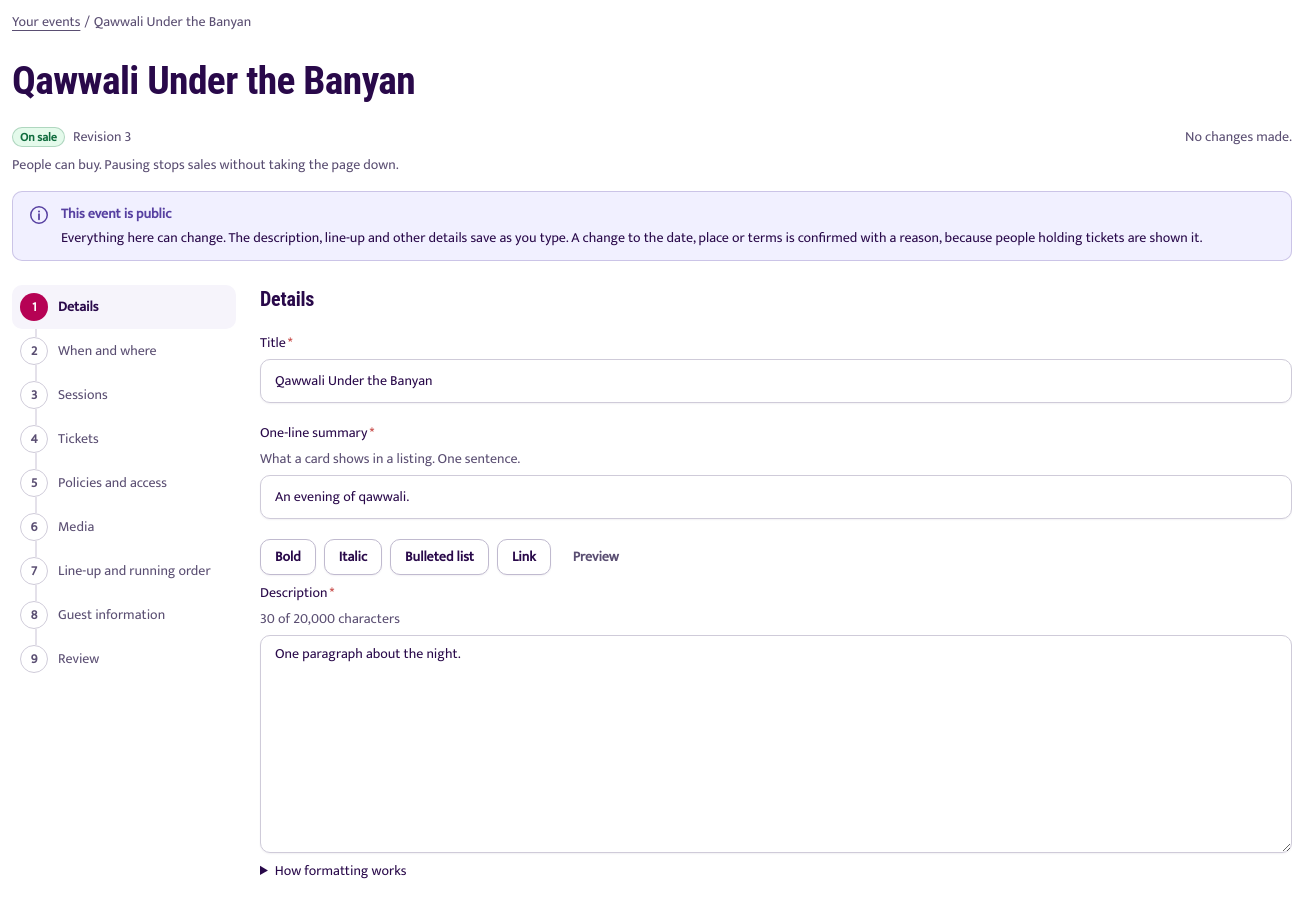
Test: the controls the organisation’s membership allows › offers a member who may delete the danger zone, and lists the changes by the team at The Desi Events
This screenshot has width=1304, height=899.
Click the button named "step 9" at (124, 659), box top-left (12, 637), bottom-right (236, 681)
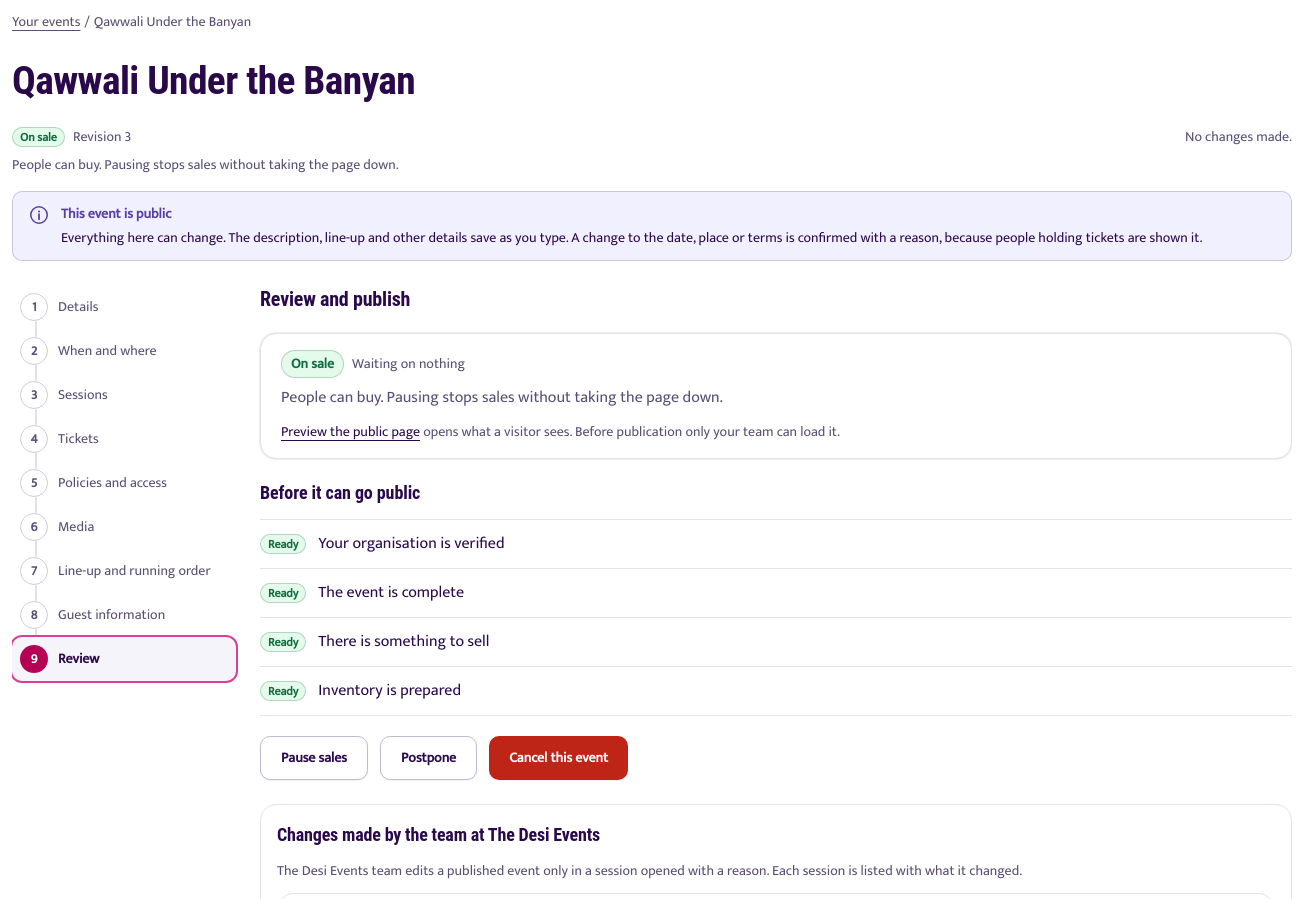
Expected: the heading "Changes made by the team at The Desi Events" is shown, top-left (277, 824), bottom-right (600, 845)
